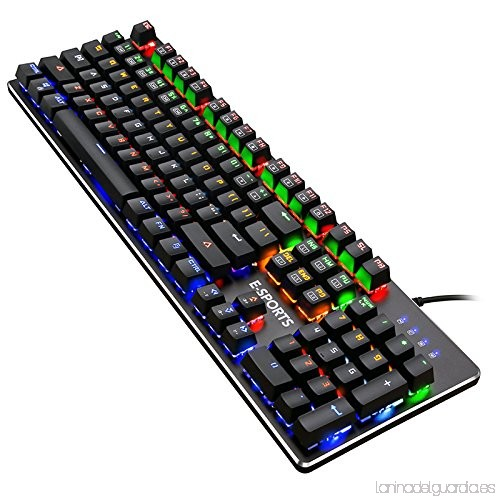Teclado: (5, 17, 483, 470)
